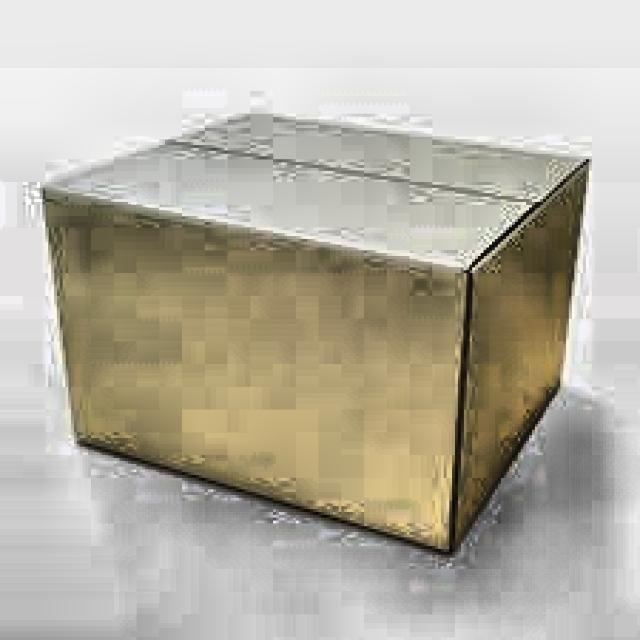cardboard: (37, 108, 589, 555)
